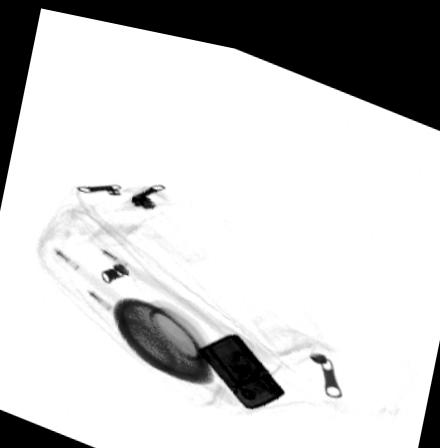Lighter: (196, 322, 285, 396)
